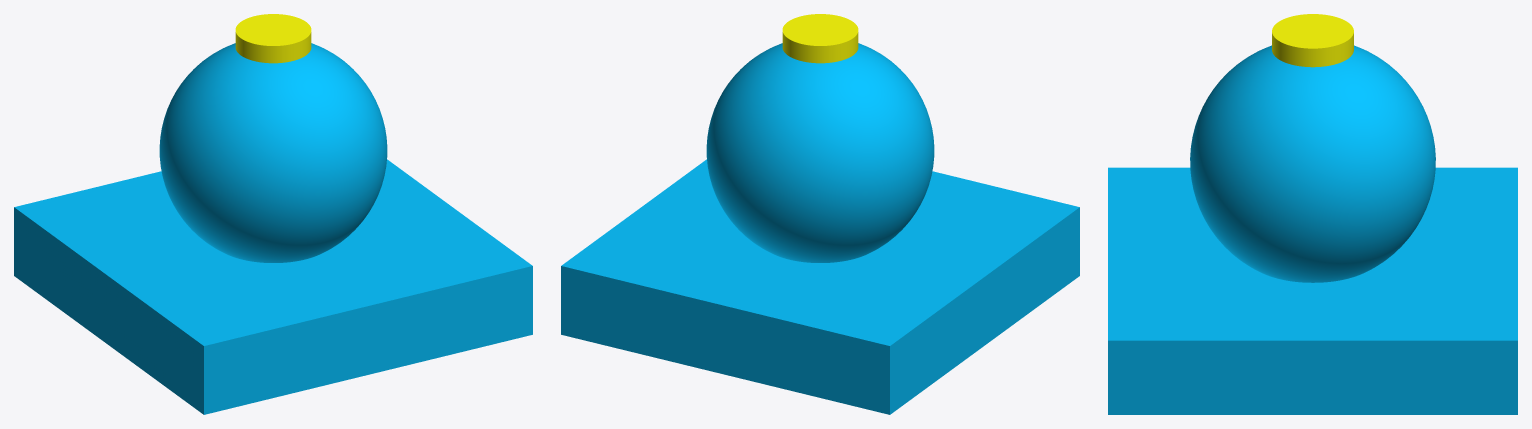
File: type_sphere_yuzey_cikinti.gltf
3 renders of one model, left to right at view 1: azimuth 30°, elevation 25°; view 2: azimuth 150°, elevation 25°; view 3: azimuth 270°, elevation 25°, orthographic. The views are drawn at different scales.
Visible parts, largest first — view 1: Open CASCADE STEP translator 7.8 4.2, Open CASCADE STEP translator 7.8 4.1; view 2: Open CASCADE STEP translator 7.8 4.2, Open CASCADE STEP translator 7.8 4.1; view 3: Open CASCADE STEP translator 7.8 4.2, Open CASCADE STEP translator 7.8 4.1.
Part boxes in pixels (box(x1,y1,x2,y2)): Open CASCADE STEP translator 7.8 4.2: box(14, 43, 532, 414); Open CASCADE STEP translator 7.8 4.1: box(235, 14, 311, 63); Open CASCADE STEP translator 7.8 4.2: box(561, 43, 1079, 414); Open CASCADE STEP translator 7.8 4.1: box(782, 14, 858, 63); Open CASCADE STEP translator 7.8 4.2: box(1108, 45, 1517, 414); Open CASCADE STEP translator 7.8 4.1: box(1272, 14, 1353, 67).
Size of the model in its own units: 0.01 by 0.008 by 0.01.
